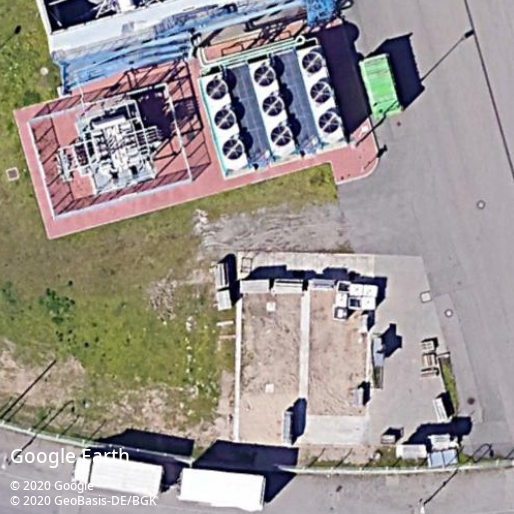Vent: (317, 111, 342, 135), (309, 81, 333, 105), (301, 51, 324, 76), (252, 65, 276, 88), (269, 125, 293, 148), (261, 95, 284, 118), (205, 78, 228, 101), (213, 108, 236, 131), (221, 138, 244, 161)
